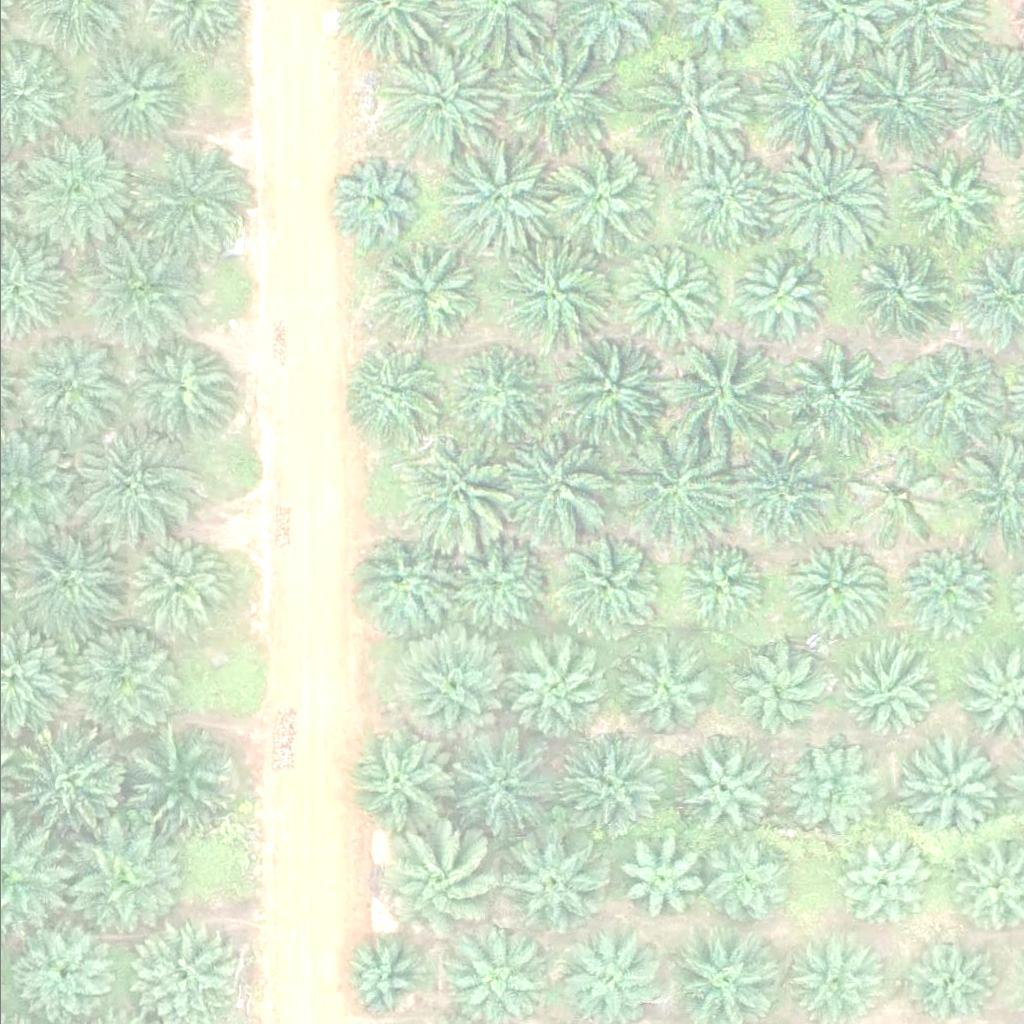Kelapa_Sawit: (370, 823, 496, 948), (554, 334, 668, 447), (770, 141, 884, 254), (754, 50, 868, 163), (377, 44, 491, 157), (61, 818, 174, 931), (65, 621, 178, 734), (6, 519, 119, 632), (13, 331, 126, 444), (77, 224, 190, 337), (128, 138, 241, 251), (11, 131, 124, 244), (546, 727, 659, 840), (445, 727, 558, 840), (338, 723, 451, 836), (501, 428, 614, 541), (730, 431, 843, 544), (661, 333, 774, 446), (497, 236, 610, 349), (536, 146, 649, 259), (637, 55, 750, 168), (122, 329, 236, 441), (615, 431, 729, 543), (125, 730, 238, 842), (14, 723, 127, 835), (72, 427, 185, 539), (494, 823, 607, 935), (390, 632, 503, 744), (344, 526, 457, 638), (396, 431, 509, 543), (782, 339, 895, 451), (360, 238, 473, 350), (439, 148, 552, 260), (504, 37, 617, 149), (20, 921, 121, 1021), (124, 529, 225, 629), (88, 47, 189, 147), (894, 739, 995, 839), (665, 743, 766, 843), (832, 636, 933, 736), (732, 641, 833, 741), (500, 637, 601, 737), (897, 542, 998, 642), (781, 539, 882, 639), (555, 538, 656, 638), (896, 342, 997, 442), (443, 346, 544, 446), (334, 343, 435, 443), (611, 243, 712, 343), (896, 149, 997, 249), (783, 735, 883, 835), (454, 539, 554, 639), (847, 451, 947, 551), (838, 240, 938, 340), (665, 151, 765, 251), (849, 51, 949, 151), (729, 253, 818, 341), (669, 541, 757, 629), (336, 933, 424, 1020), (841, 837, 929, 924), (700, 837, 788, 924), (612, 834, 700, 921), (617, 645, 705, 732), (323, 156, 411, 243)
